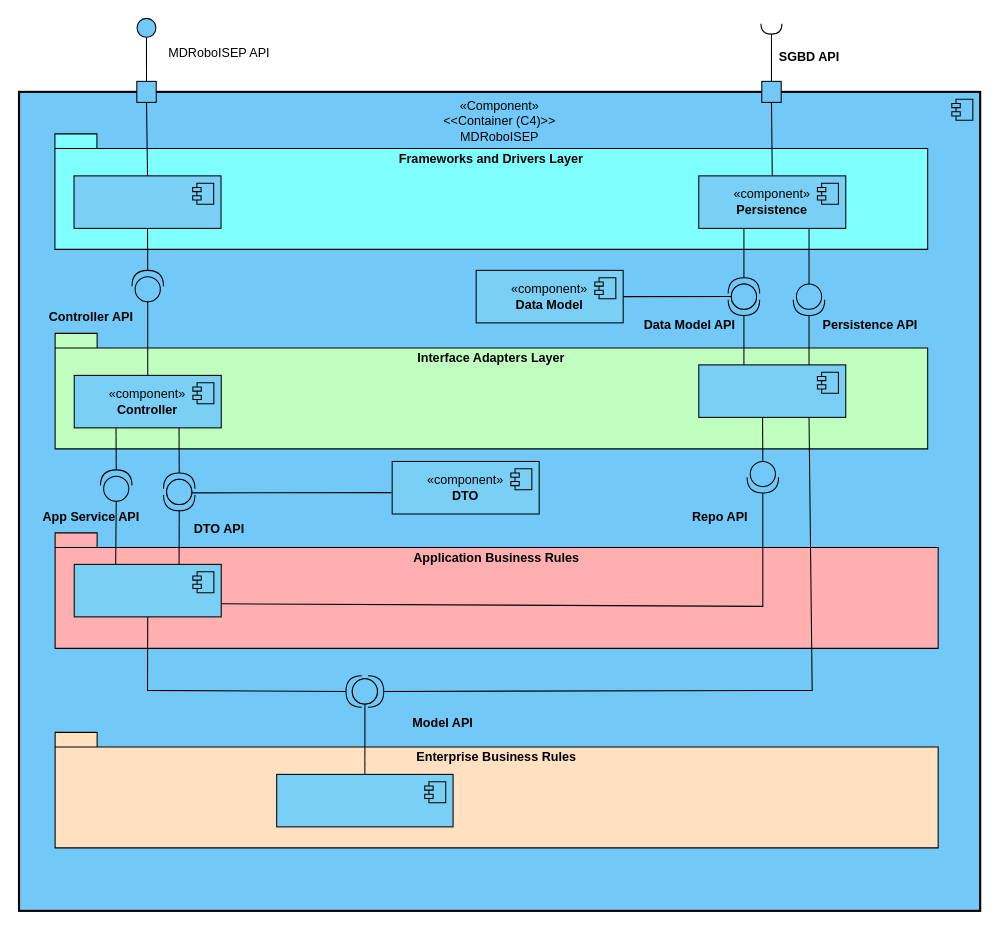
This 1000x930 diagram has some shape labels left out. The shapes that lost their labels are listed below. From the top down, each one's centre as x and y in pixels, then its label:
At pixel 147 201: "«component» Routing".
At pixel 772 390: "«component» Repository".
At pixel 147 590: "«component» Application Service".
At pixel 364 800: "«component» Domain Model (DDD)".
